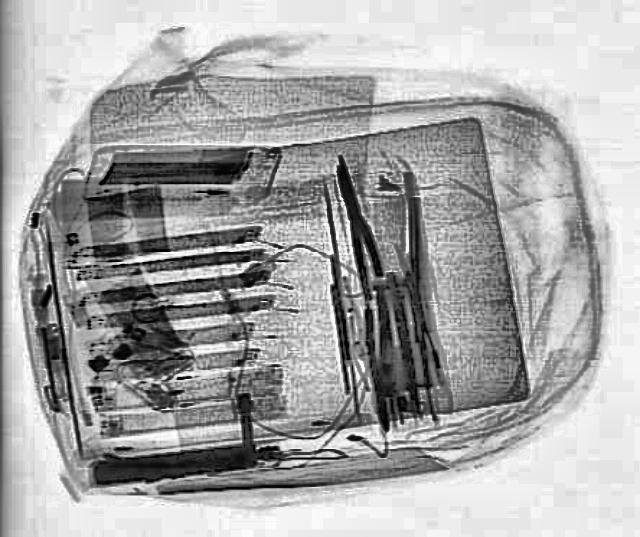Pliers: (322, 151, 390, 299)
